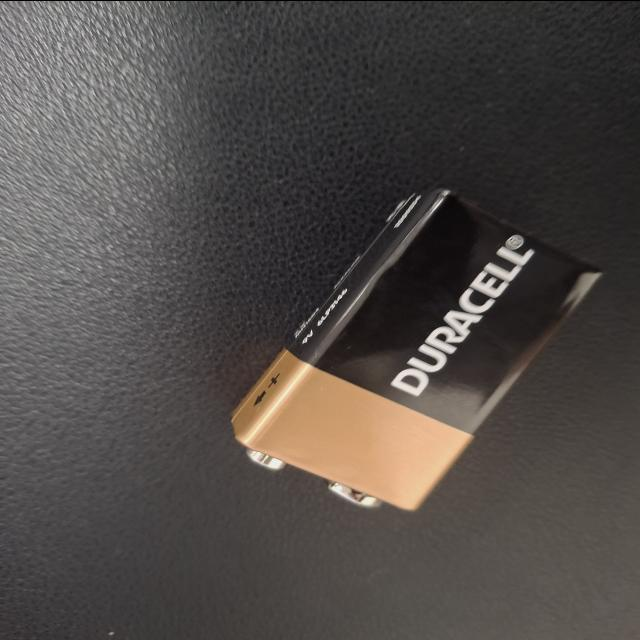9V: (250, 188, 640, 466)
